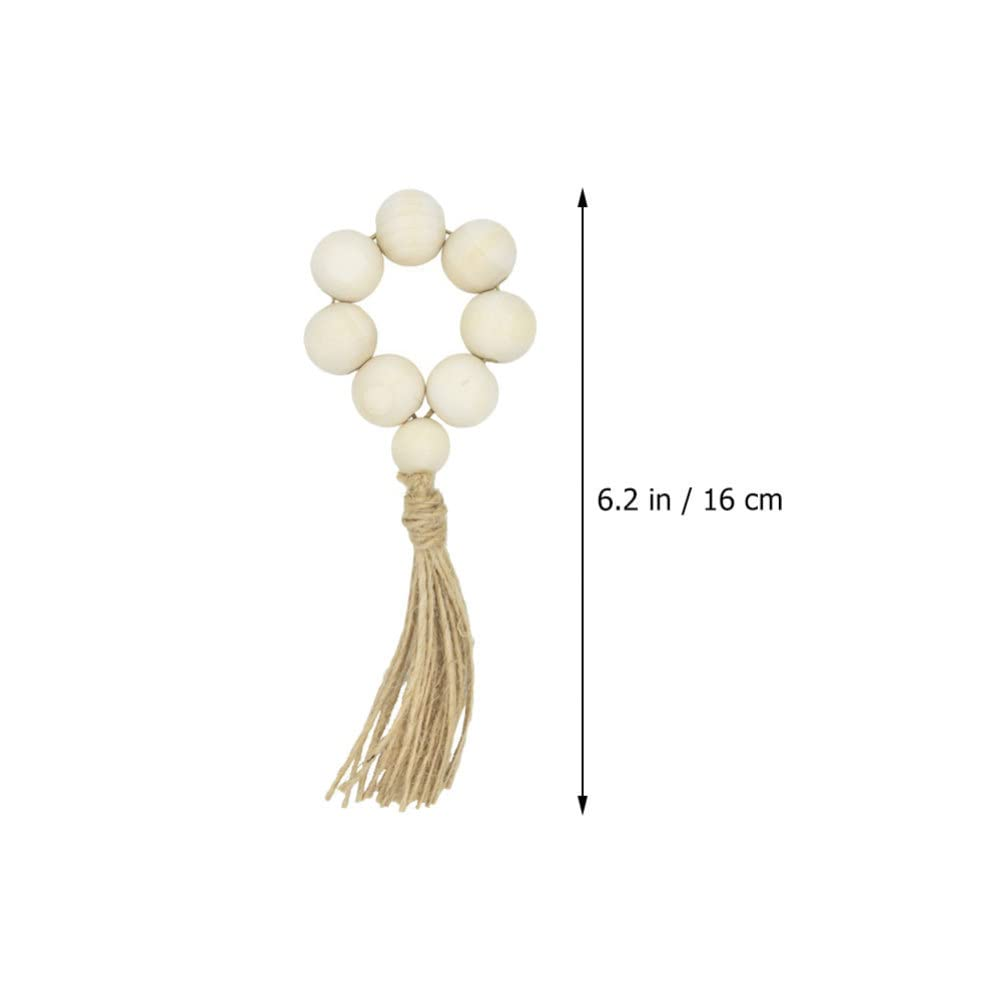16cm: (705, 487, 782, 511)
6.2: (598, 487, 638, 511)
